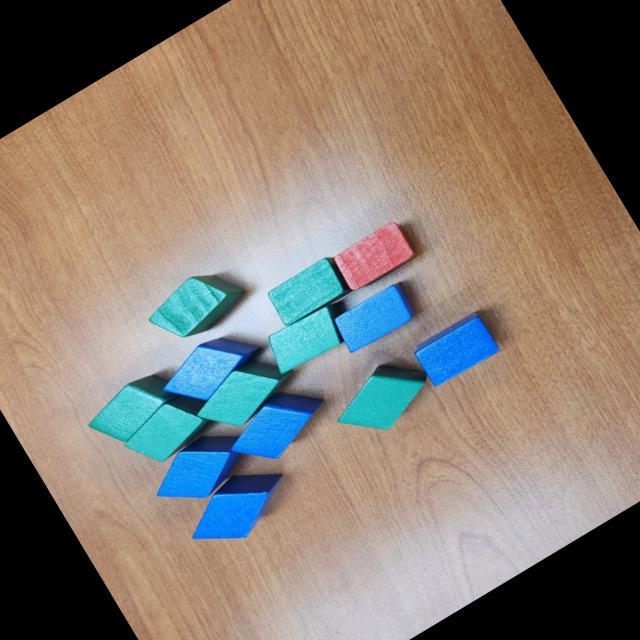blue: (175, 453, 302, 562), (218, 372, 337, 476), (151, 318, 272, 420), (142, 418, 260, 519), (412, 308, 504, 391), (328, 278, 422, 358)
green: (323, 346, 443, 451), (187, 343, 306, 443), (136, 255, 253, 356), (80, 362, 188, 454), (116, 385, 221, 475), (259, 293, 362, 379), (262, 252, 354, 330)
red: (330, 218, 420, 296)
